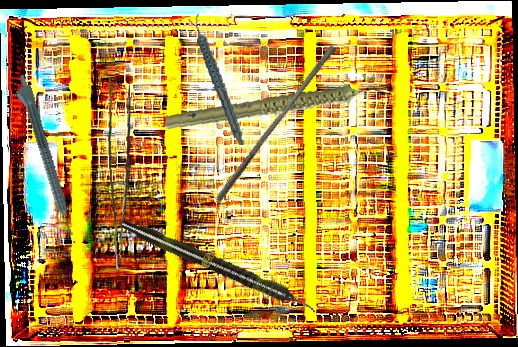Handpiece: (118, 214, 320, 319), (164, 68, 390, 149), (9, 73, 77, 239), (193, 10, 246, 149)
Pusher: (215, 41, 337, 207)
Tissue Forceps: (103, 83, 143, 269)
